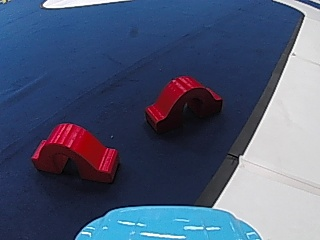bridge: (31, 122, 116, 182), (139, 72, 224, 131)
